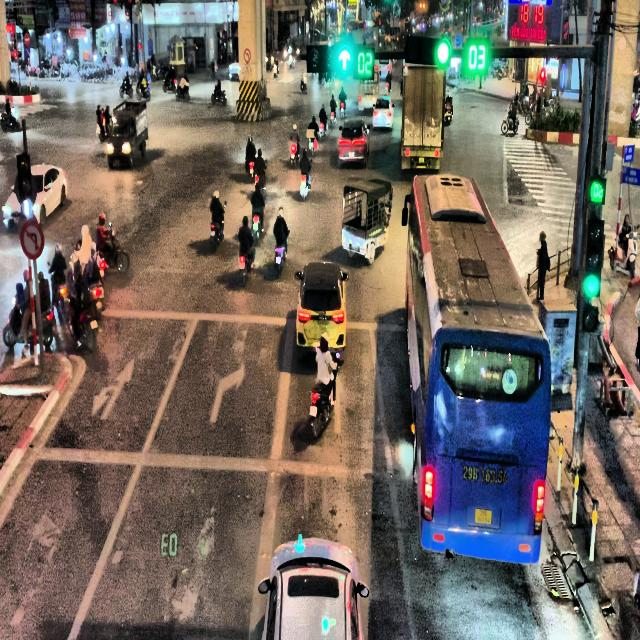lisence_plate: (460, 462, 509, 486), (466, 498, 498, 534), (473, 506, 493, 526)
